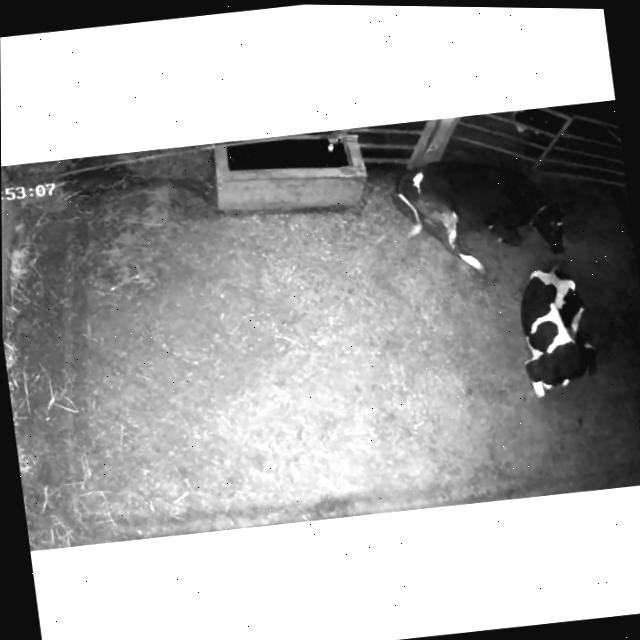lay: (380, 127, 600, 287), (497, 243, 616, 410)
